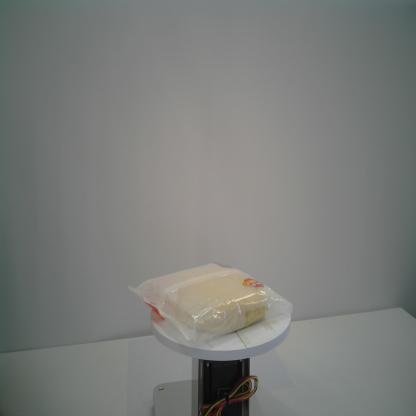Dessert: (128, 261, 293, 346)
